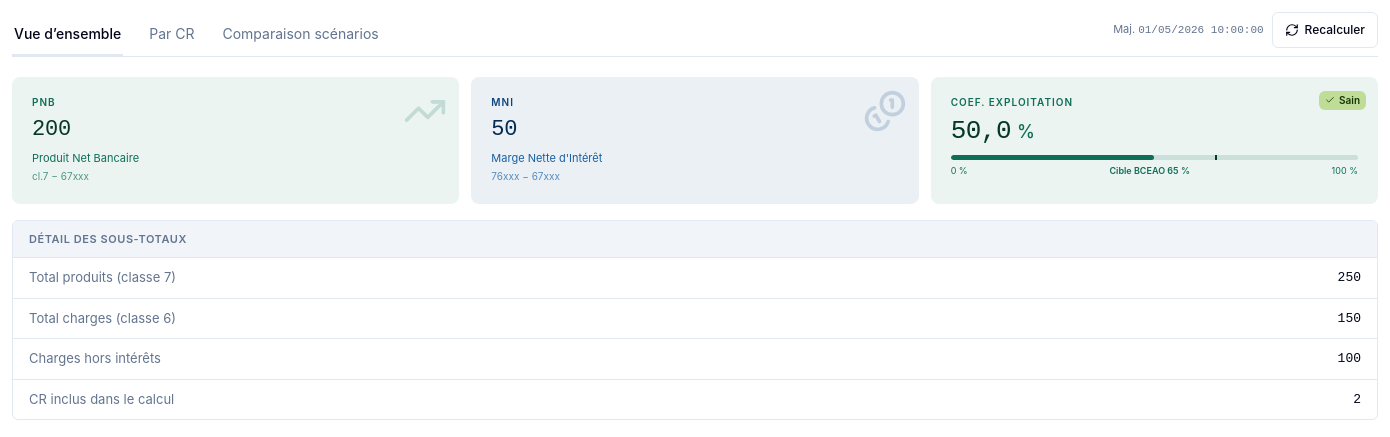
IndicateursContent › Liste « Par CR » vide → empty state
This screenshot has width=1390, height=437.
Click the tab with test id "tab-par-cr": (172,34) [147, 14, 196, 54]
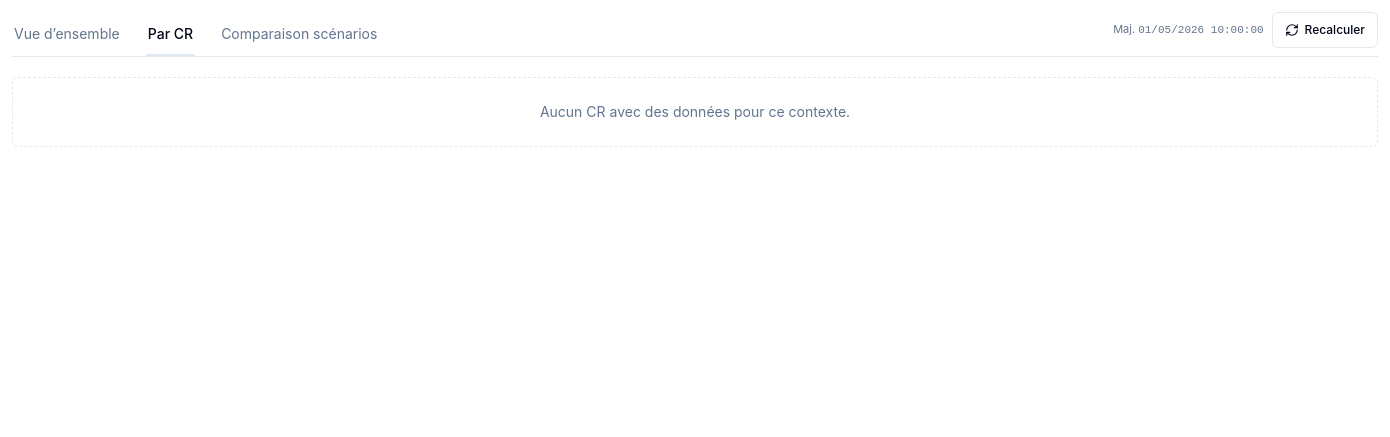
Expected: the text "Aucun CR avec des données pour ce contexte." is shown, [12, 77, 1378, 147]
